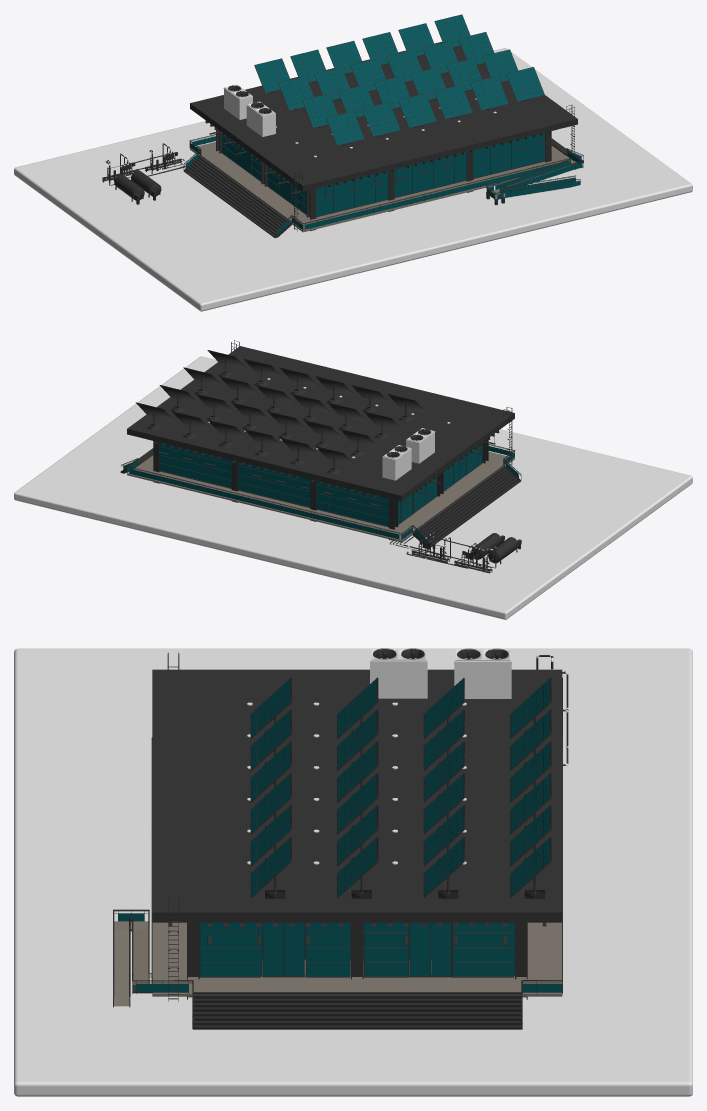
Rendered from BachelorsThesis.glb.
3 renders of one model, top to bottom at view 1: azimuth 30°, elevation 25°; view 2: azimuth 150°, elevation 25°; view 3: azimuth 270°, elevation 25°, orthographic. The views are drawn at different scales.
Visible parts, largest first — view 1: Platform, Panel, Ceiling, Curtain, Railing, Floor, Vertical, Piping, AC, Columns, Doors; view 2: Platform, Ceiling, Panel, Curtain, Floor, Vertical, Railing, Piping, AC, Columns, Doors, Sub; view 3: Platform, Ceiling, Panel, Vertical, Curtain, Floor, AC, Doors, Railing, Columns, Piping.
Part boxes in pixels (x1=…): Platform: x1=14, y1=48, x2=692, y2=311; Panel: x1=254, y1=14, x2=544, y2=145; Ceiling: x1=190, y1=41, x2=577, y2=191; Curtain: x1=222, y1=132, x2=544, y2=217; Railing: x1=183, y1=134, x2=583, y2=237; Floor: x1=190, y1=142, x2=575, y2=232; Vertical: x1=184, y1=105, x2=583, y2=237; Piping: x1=102, y1=98, x2=496, y2=206; AC: x1=223, y1=84, x2=275, y2=136; Columns: x1=216, y1=129, x2=551, y2=231; Doors: x1=239, y1=146, x2=291, y2=203; Platform: x1=14, y1=356, x2=692, y2=619; Ceiling: x1=127, y1=346, x2=514, y2=501; Panel: x1=135, y1=350, x2=426, y2=474; Curtain: x1=159, y1=442, x2=483, y2=526; Floor: x1=127, y1=451, x2=514, y2=542; Vertical: x1=120, y1=340, x2=520, y2=546; Railing: x1=121, y1=444, x2=521, y2=542; Piping: x1=208, y1=378, x2=525, y2=573; AC: x1=382, y1=428, x2=435, y2=480; Columns: x1=153, y1=439, x2=488, y2=540; Doors: x1=413, y1=456, x2=465, y2=513; Sub: x1=154, y1=430, x2=499, y2=497; Platform: x1=14, y1=648, x2=692, y2=1096; Ceiling: x1=152, y1=669, x2=562, y2=922; Panel: x1=250, y1=677, x2=551, y2=898; Vertical: x1=114, y1=652, x2=522, y2=1029; Curtain: x1=199, y1=922, x2=514, y2=977; Floor: x1=152, y1=922, x2=562, y2=996; AC: x1=370, y1=648, x2=511, y2=698; Doors: x1=262, y1=922, x2=451, y2=977; Railing: x1=113, y1=737, x2=562, y2=1028; Columns: x1=187, y1=922, x2=527, y2=999; Piping: x1=247, y1=654, x2=568, y2=864.
Bounding box in the file's own units: 62.83 × 11.11 × 41.38.
